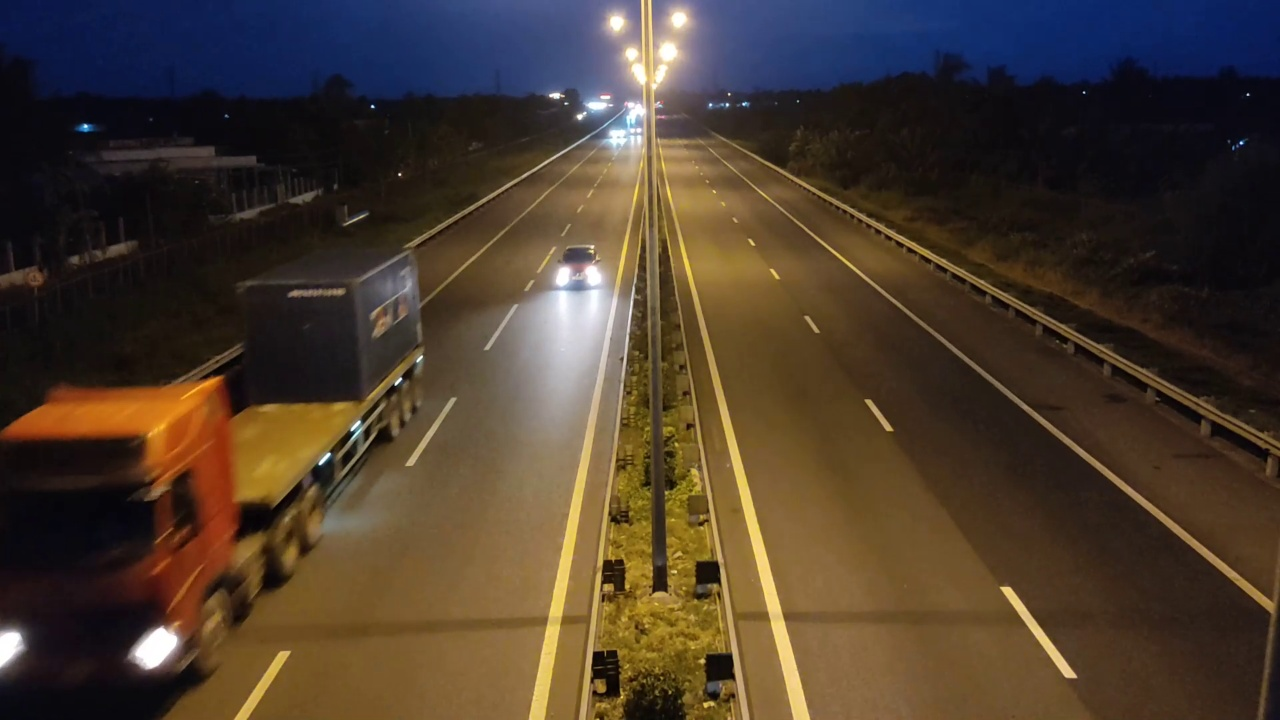car: (550, 237, 605, 298)
truck: (1, 243, 425, 703)
